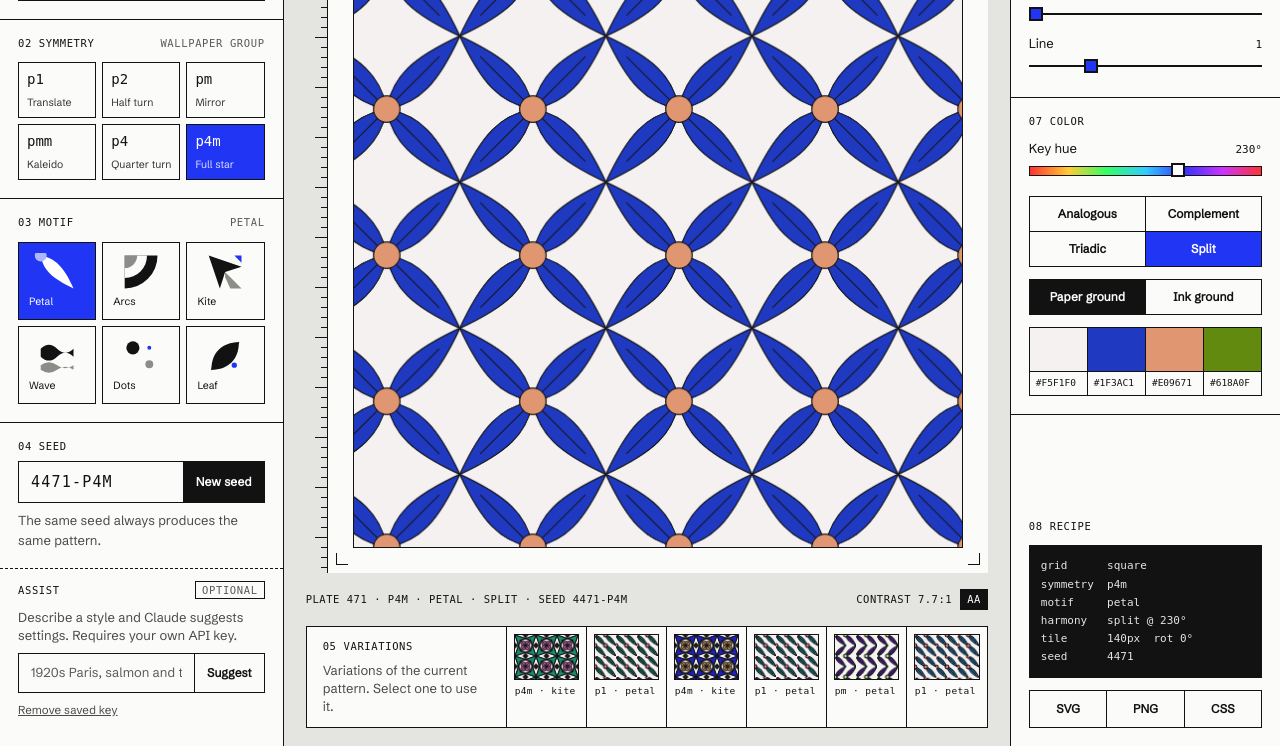
Test: Studio › previews an assist suggestion and applies it only on confirmation
(page scrolled)
Step 1. Type "autumn leaves" into the field labelled "Describe a style" → x=106, y=673, box 19,654 -> 194,692
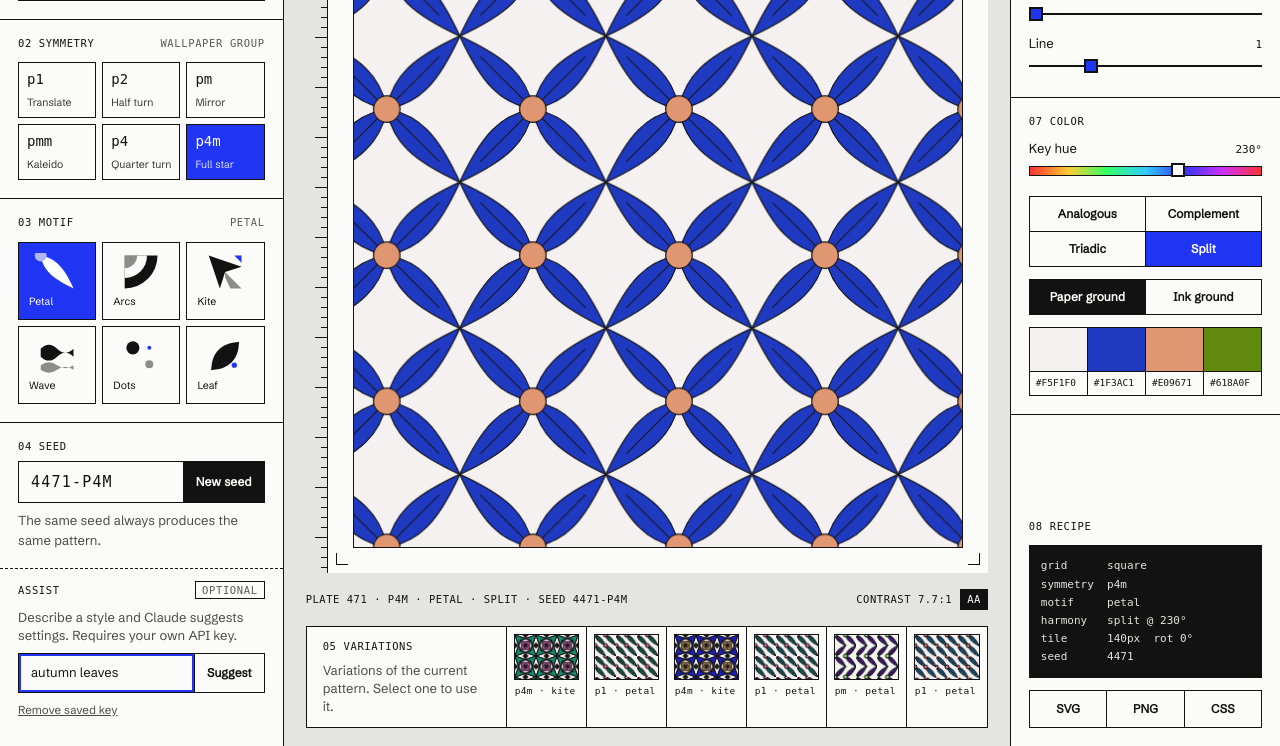
Step 2. Click the button "Suggest" → x=229, y=673, box 194,654 -> 264,692
(page scrolled)
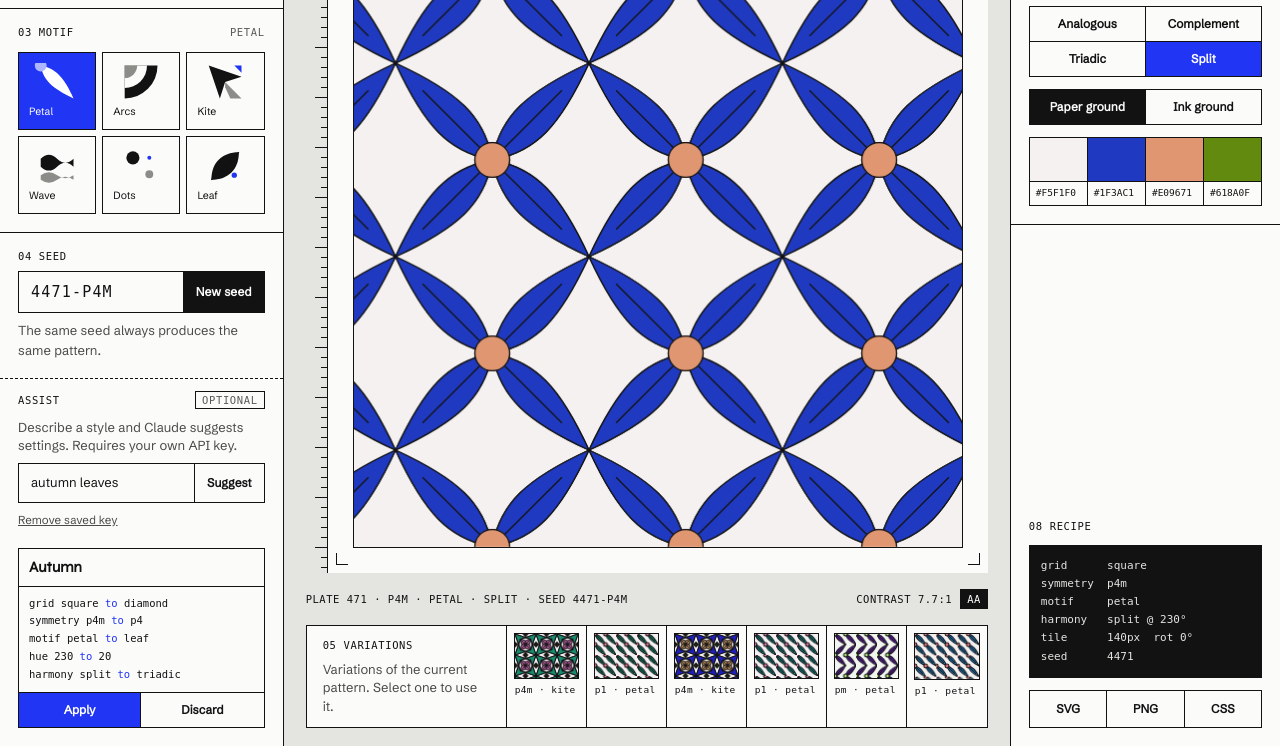
Expected: the element with test id "plate-caption" shows "Petal", 429,593 -> 463,605
Expected: the element named "Suggested changes" shows "Autumn", 29,558 -> 82,576
Expected: the element named "Suggested changes" shows "motif petal to leaf", 18,548 -> 265,728
Step 3. Click the button "Apply" → x=80, y=710, box 19,693 -> 141,727
(page scrolled)
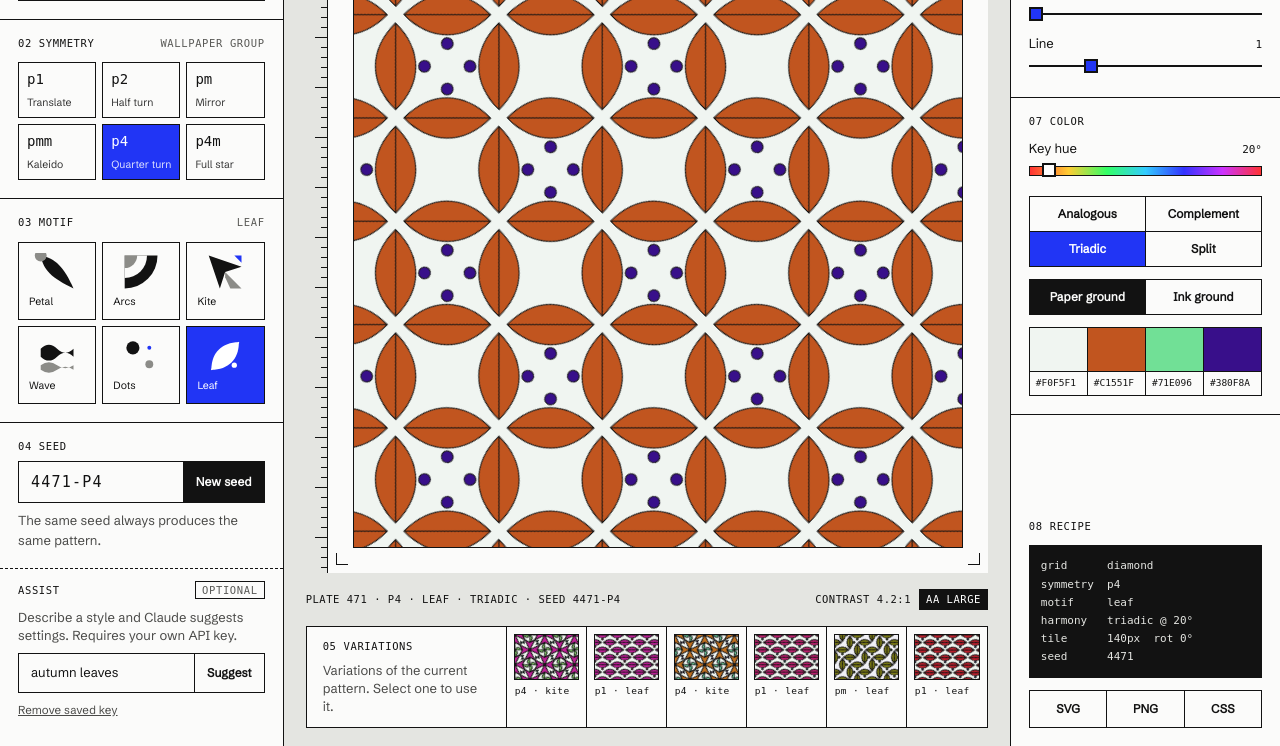
Expected: the element with test id "plate-caption" shows "Leaf", 422,593 -> 450,605
